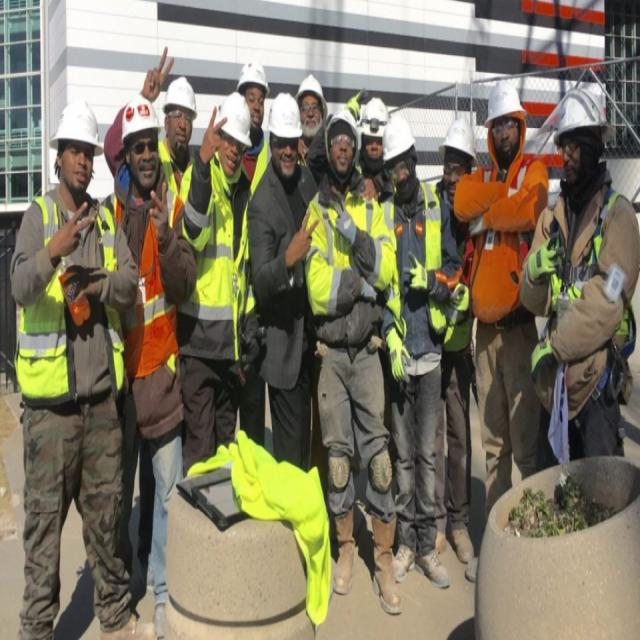helmet: (49, 93, 106, 176), (550, 76, 609, 156), (434, 109, 485, 186), (213, 63, 252, 162), (156, 47, 204, 127), (260, 96, 313, 166), (115, 84, 173, 140), (352, 92, 395, 163), (379, 109, 419, 185), (482, 70, 536, 126), (324, 99, 368, 148), (237, 41, 272, 100), (295, 63, 330, 105)
shoes: (364, 504, 417, 628), (328, 491, 365, 598), (442, 511, 481, 571), (415, 550, 459, 601), (385, 532, 419, 591), (148, 596, 189, 640), (96, 615, 162, 640), (132, 579, 161, 619), (462, 549, 480, 582)
vest: (11, 186, 132, 439), (530, 181, 640, 386), (104, 191, 190, 407), (173, 152, 258, 364), (303, 185, 401, 364), (371, 188, 458, 388), (154, 121, 204, 238)
